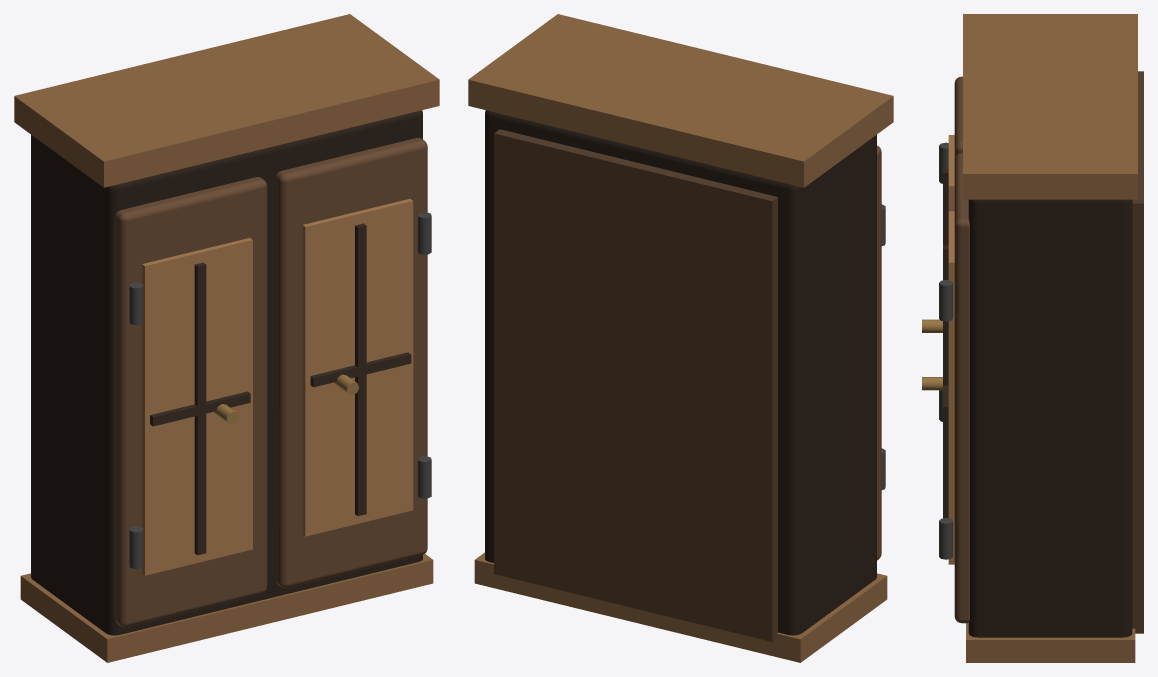
The model's file is sk_wardrobe.glb.
3 renders of one model, left to right at view 1: azimuth 30°, elevation 25°; view 2: azimuth 150°, elevation 25°; view 3: azimuth 270°, elevation 25°, orthographic. The views are drawn at different scales.
Parts seen in each view (by area): view 1: wood (×2), metal; view 2: wood (×2); view 3: wood (×2), metal.
Boxes of the visible parts, left/top/right/bottom form: wood (×2): left=14, top=14, right=439, bottom=662; metal: left=129, top=212, right=431, bottom=568; wood (×2): left=468, top=14, right=893, bottom=662; wood (×2): left=922, top=14, right=1143, bottom=662; metal: left=939, top=142, right=952, bottom=559.
Bounding box in the file's own units: 1.34 × 1.92 × 0.7855.
